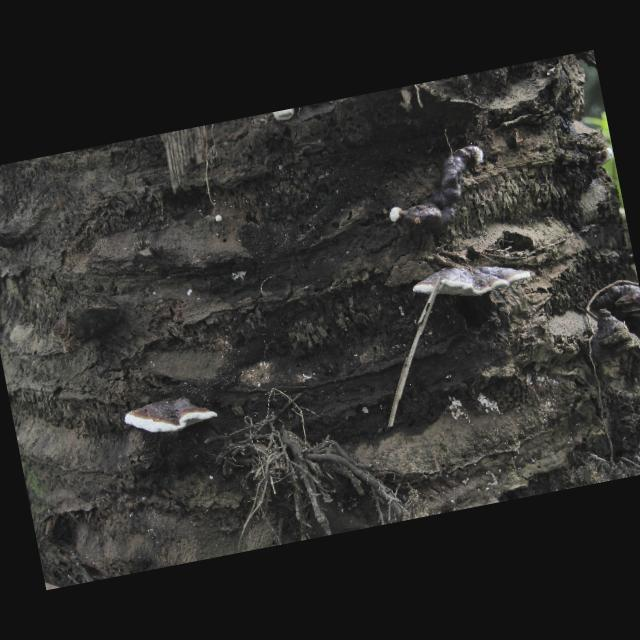ganoderma: (396, 146, 482, 236), (410, 252, 535, 311), (124, 391, 222, 443)
primordium: (592, 147, 616, 168), (469, 145, 488, 169), (271, 109, 298, 125), (389, 207, 404, 225), (215, 214, 226, 225)
